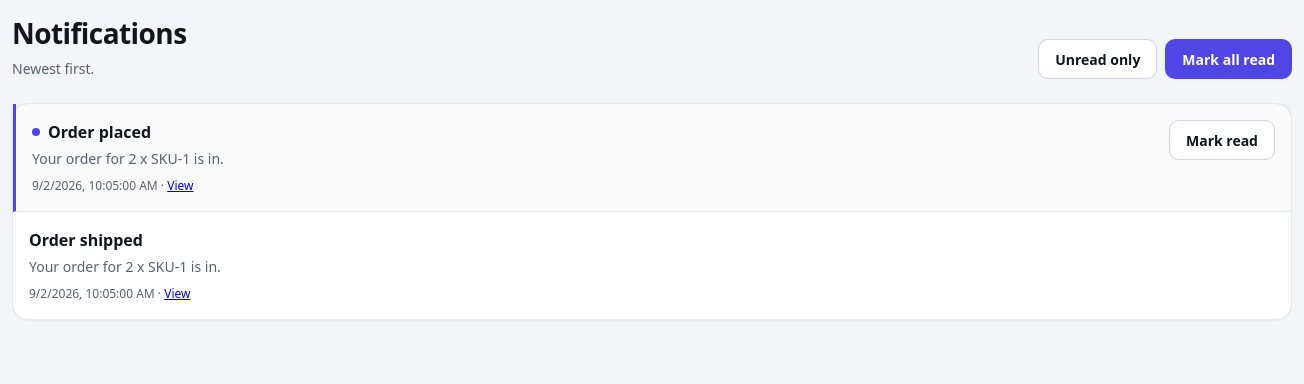
Test case: NotificationList › renders the failure when marking read fails, keeping the rows on screen
The width and height of the screenshot is (1304, 384).
Click the button with aria-label "Mark Order placed read": click(1222, 140) [1169,120,1275,160]
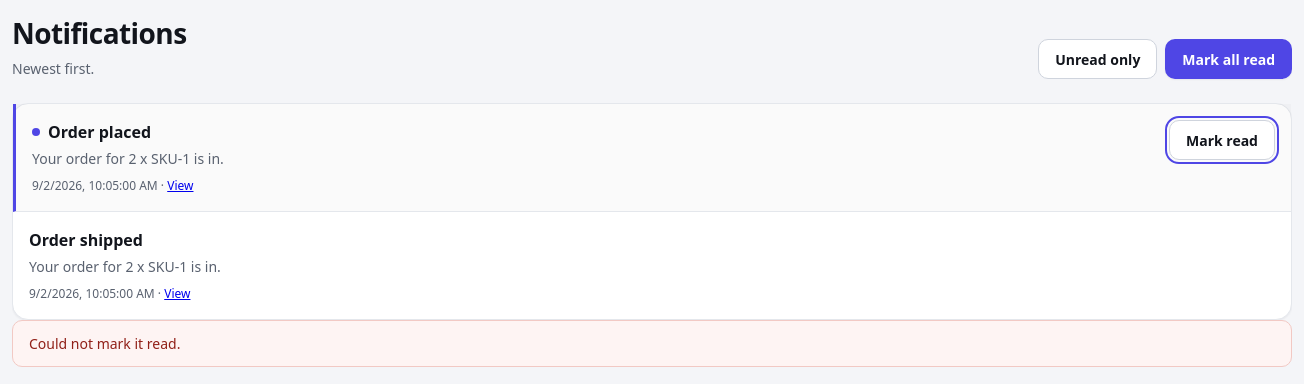
Expected: the text "Order placed" is shown, [31,121,151,154]
Expected: the message reads "Could not mark it read.", [29,334,180,353]
